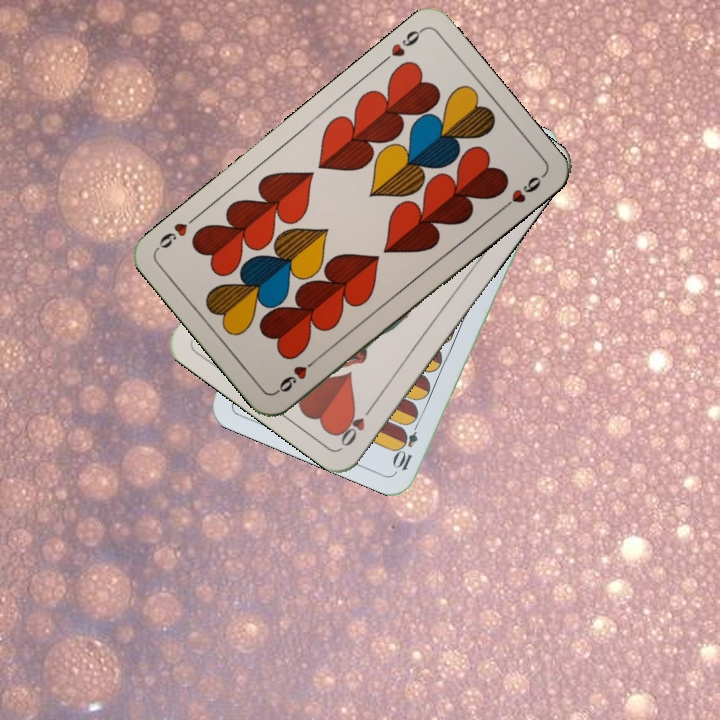E10: (391, 415, 423, 473)
H9: (271, 353, 321, 396), (376, 24, 426, 67)
HO: (335, 399, 378, 450)
